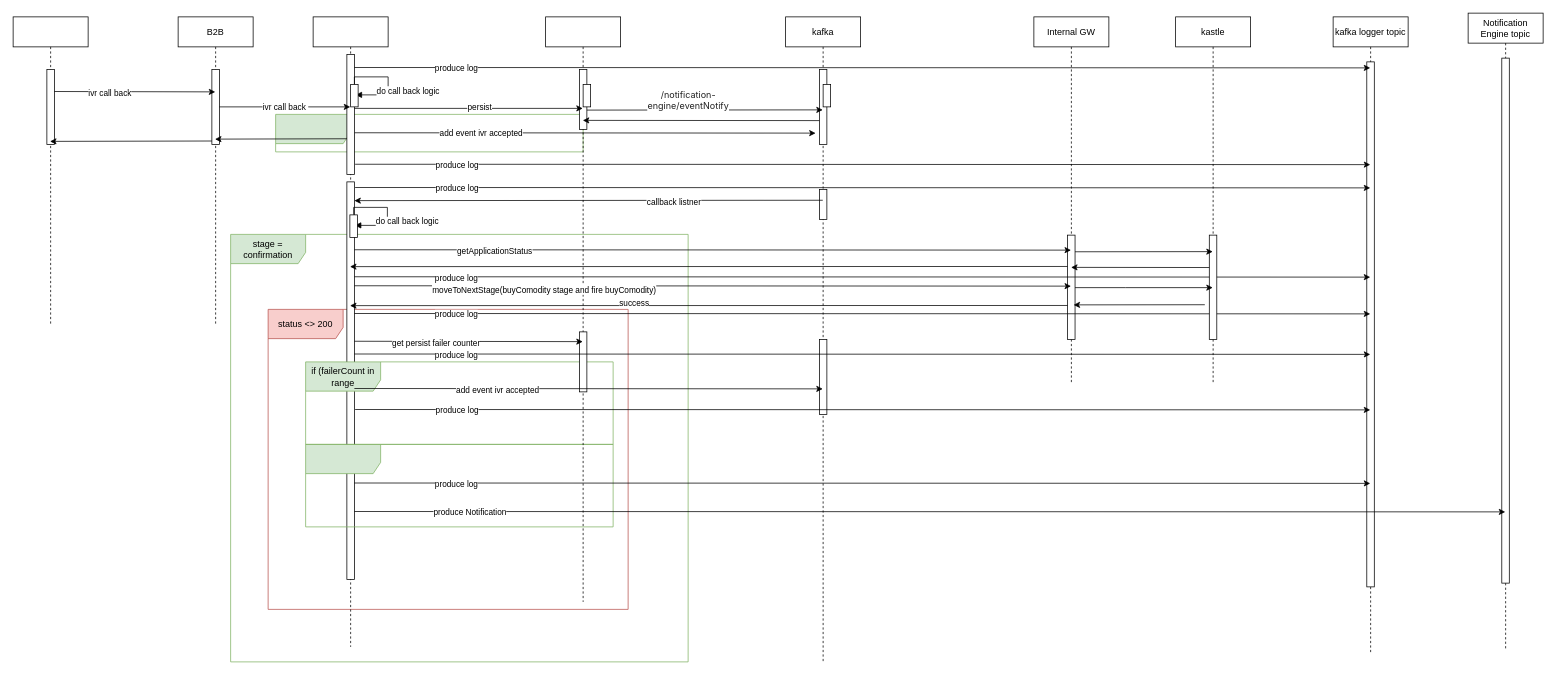
Image size: 1556x675. Some labels were removed from this diagram. The box of each missing label's shape, as (x1, y1, x2, y2) in pixels:
accept: (275, 114, 583, 152)
DB: (545, 16, 621, 602)
else (failerCount out range: (305, 444, 613, 527)
IVR: (312, 16, 388, 647)
unifonic: (12, 16, 88, 324)
